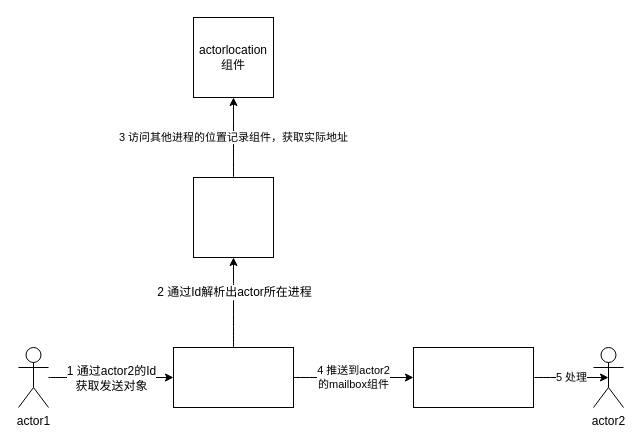
This 642x446 diagram has some shape labels left out. Each missing label, with the centre of its shape:
"ActorlocationSender 消息发送组件" goes at (233,377).
"actorlocation代理组件" goes at (233,217).
